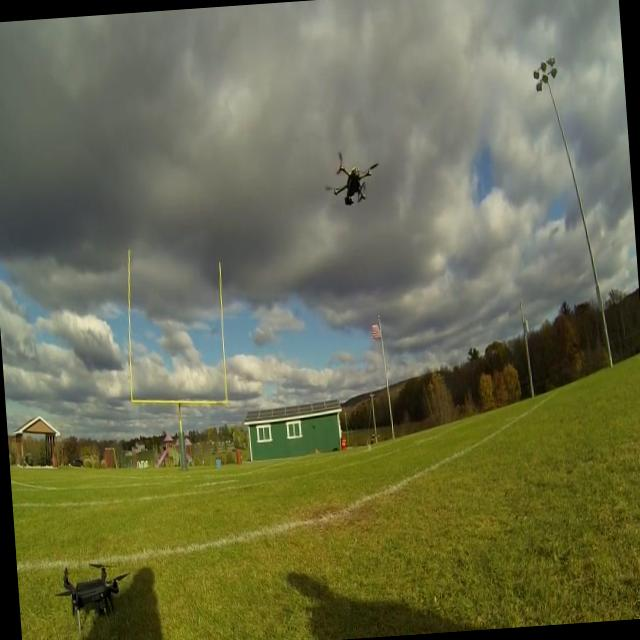drone: (321, 147, 384, 213)
